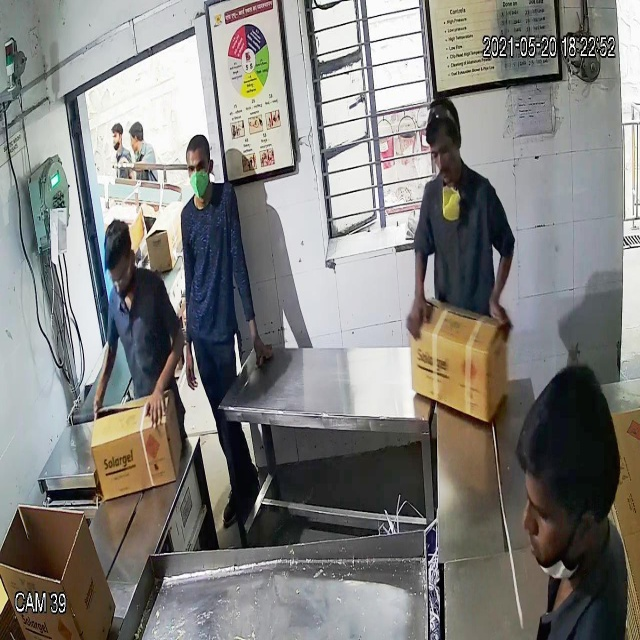Sin_gafas: (426, 133, 458, 167), (183, 156, 212, 180)
